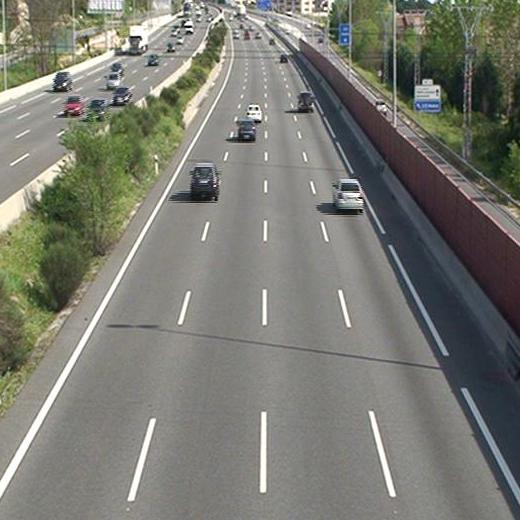car: (332, 179, 363, 209), (190, 163, 219, 195), (238, 119, 256, 139), (297, 92, 313, 111), (248, 105, 261, 120), (280, 53, 288, 63)
